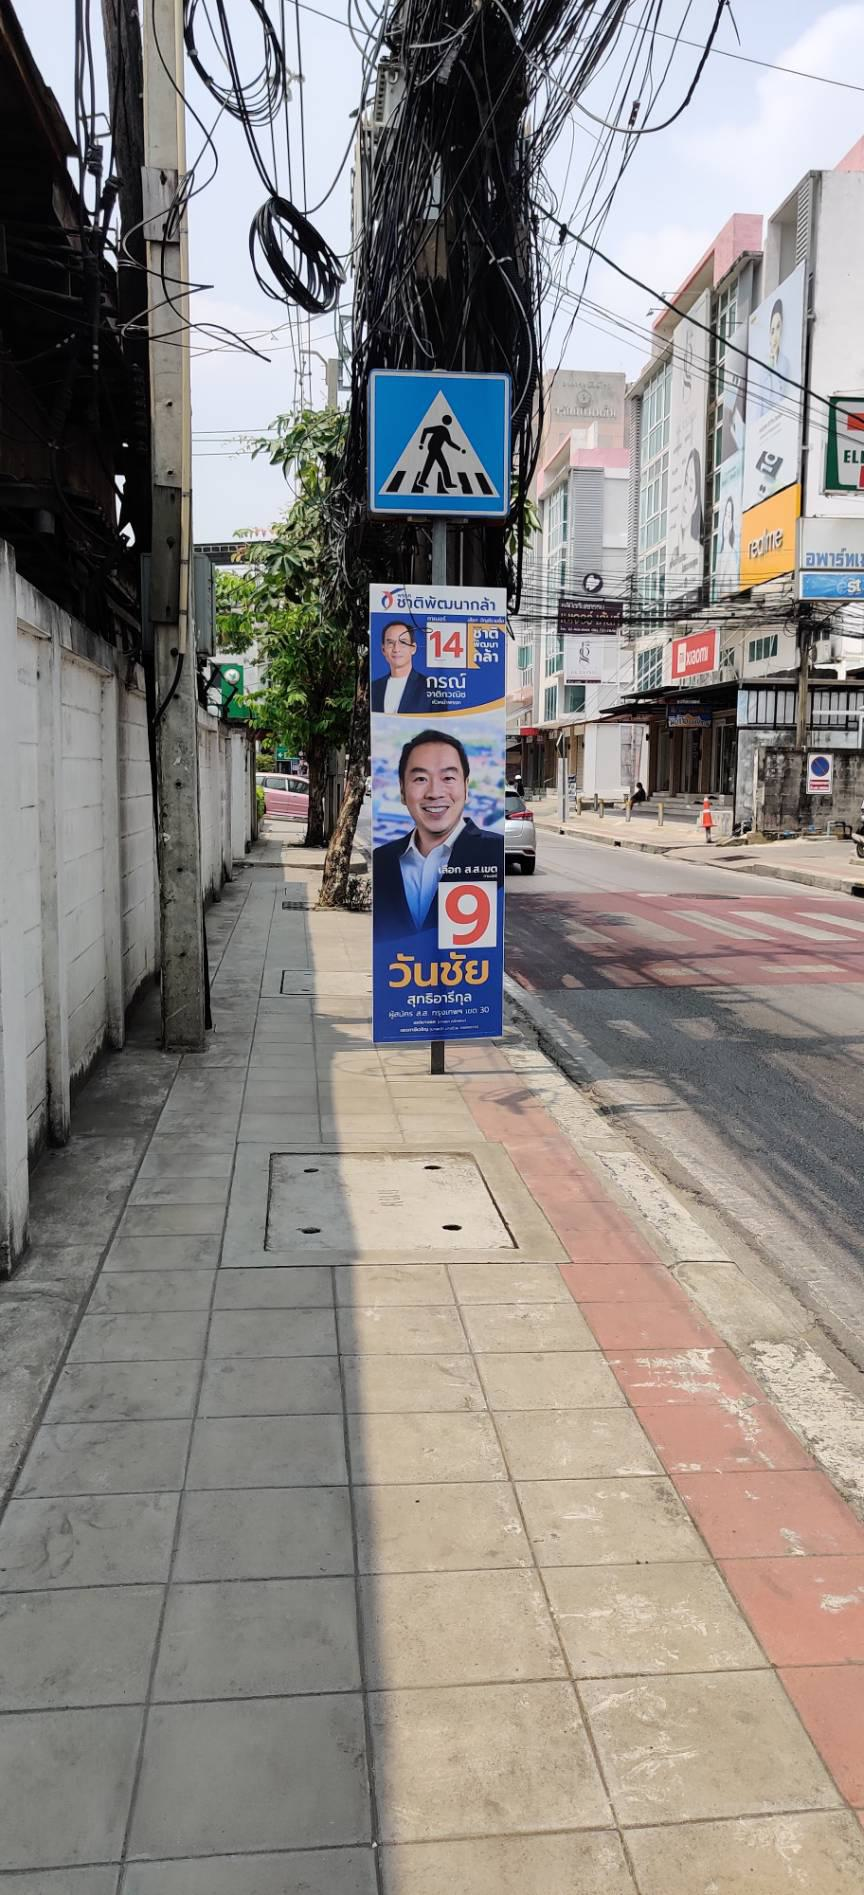Banner: (370, 569, 512, 1047)
